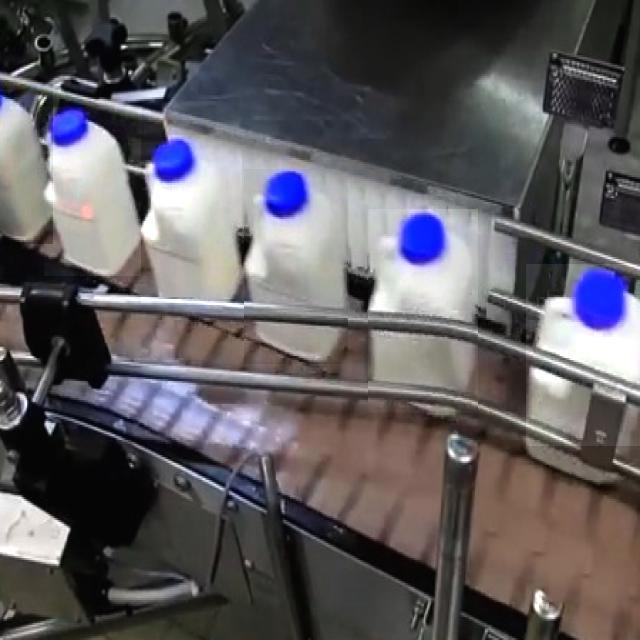milk: (527, 270, 640, 479), (366, 214, 482, 405), (30, 101, 145, 281), (241, 166, 347, 360), (138, 133, 242, 314)
